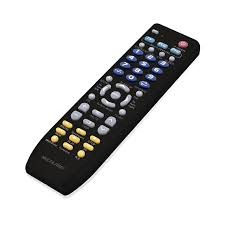remote control: (18, 11, 204, 199)
